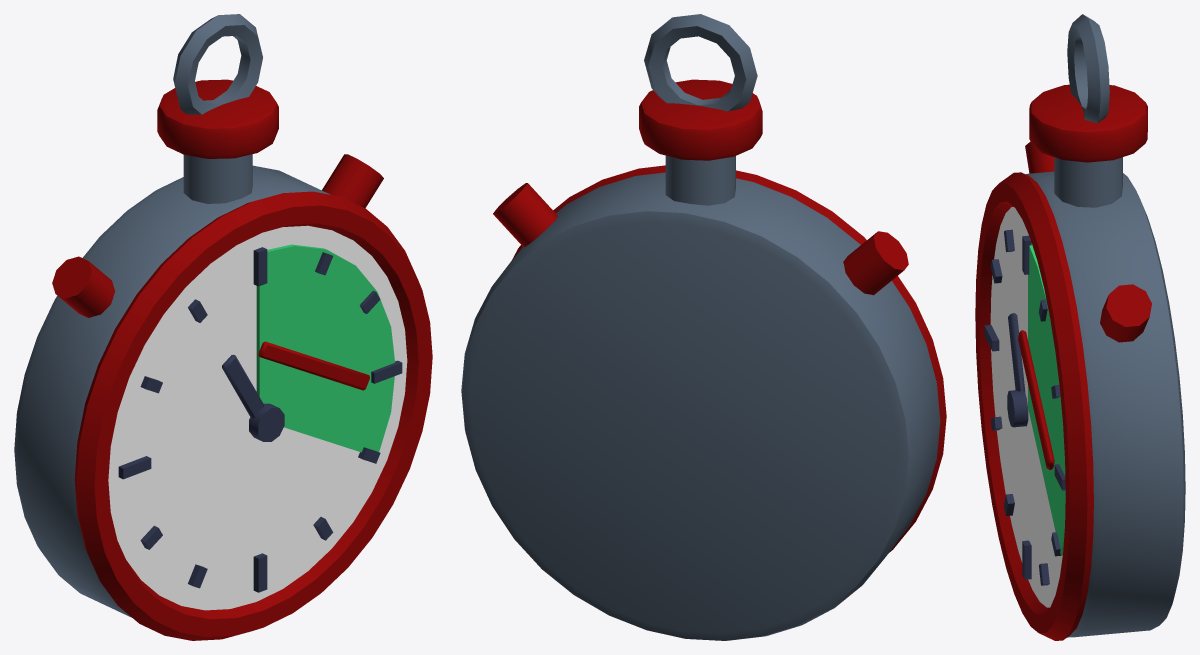
The model's file is Stopwatch.obj.
3 views of the same model, side by side, from view 1: azimuth 30°, elevation 25°; view 2: azimuth 150°, elevation 25°; view 3: azimuth 270°, elevation 25° (orthographic). The views are drawn at different scales.
Visible parts, largest first — view 1: Stopwatch; view 2: Stopwatch; view 3: Stopwatch.
Boxes of the visible parts, box(x1,y1,x2,y2) form: Stopwatch: box(14, 14, 432, 640); Stopwatch: box(461, 14, 946, 640); Stopwatch: box(975, 14, 1185, 640).
Size of the model in its own units: 2.05 by 2.82 by 0.9001.
